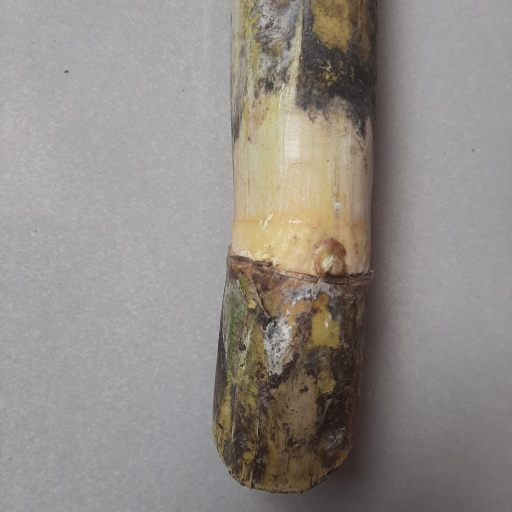Bud: (314, 239, 348, 277)
